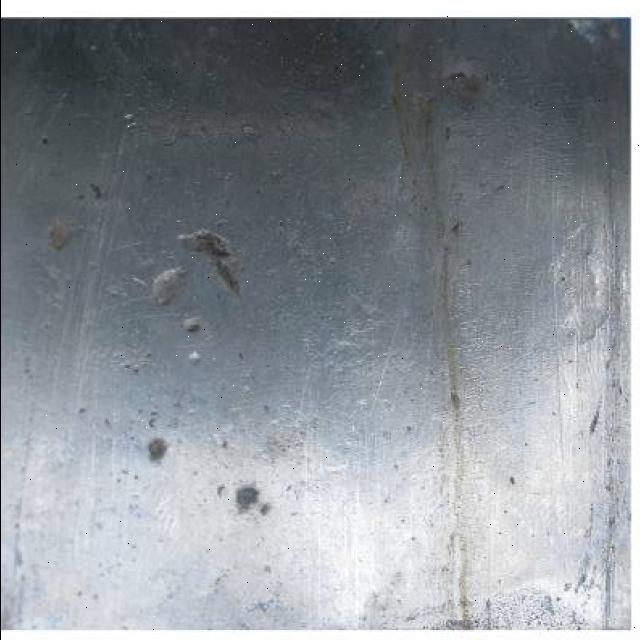geshang: (184, 224, 244, 296), (442, 62, 488, 110)
